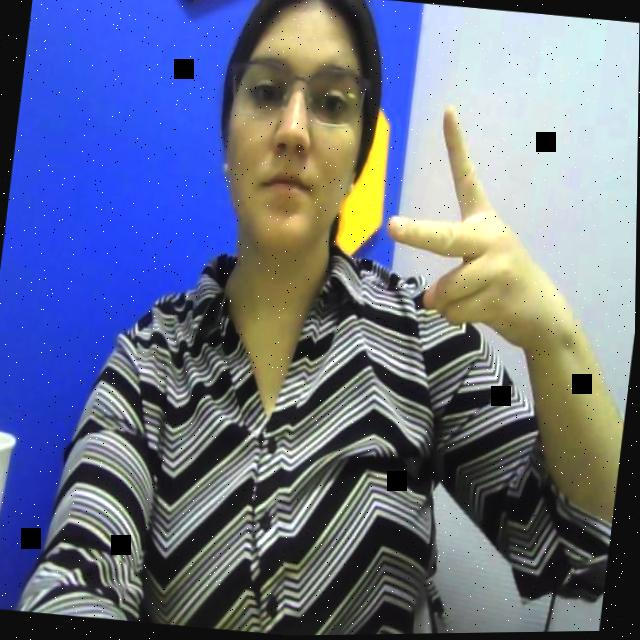Scissors: (374, 97, 587, 362)
